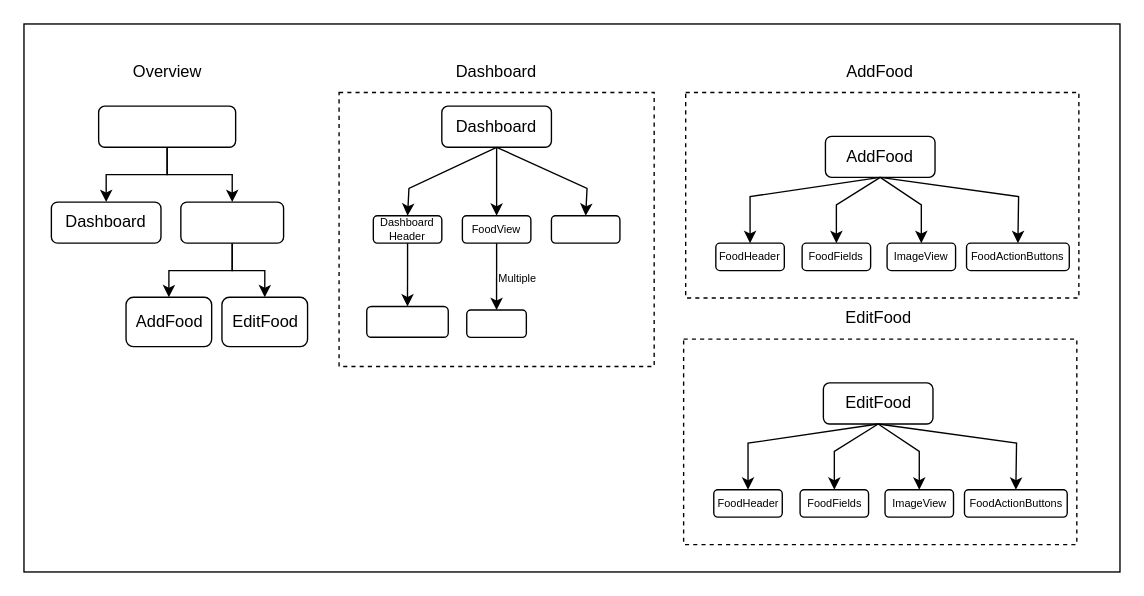
The diagram is 1144 pixels wide and 596 high, and some of its shapes have lost their labels. Each missing label, with the centre of its shape:
"App" goes at pixel 166 126.
"Dashboard Buttons" goes at pixel 585 228.
"DateSelector" goes at pixel 406 321.
"Food" goes at pixel 231 222.
"Food List" goes at pixel 495 323.
